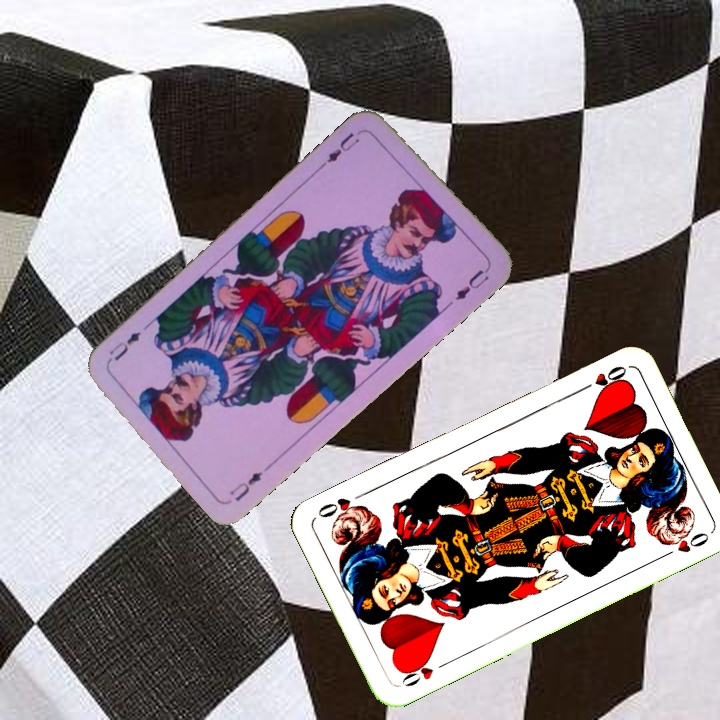EU: (317, 125, 366, 169), (225, 467, 265, 504)
HO: (396, 654, 451, 690), (574, 361, 630, 396)
